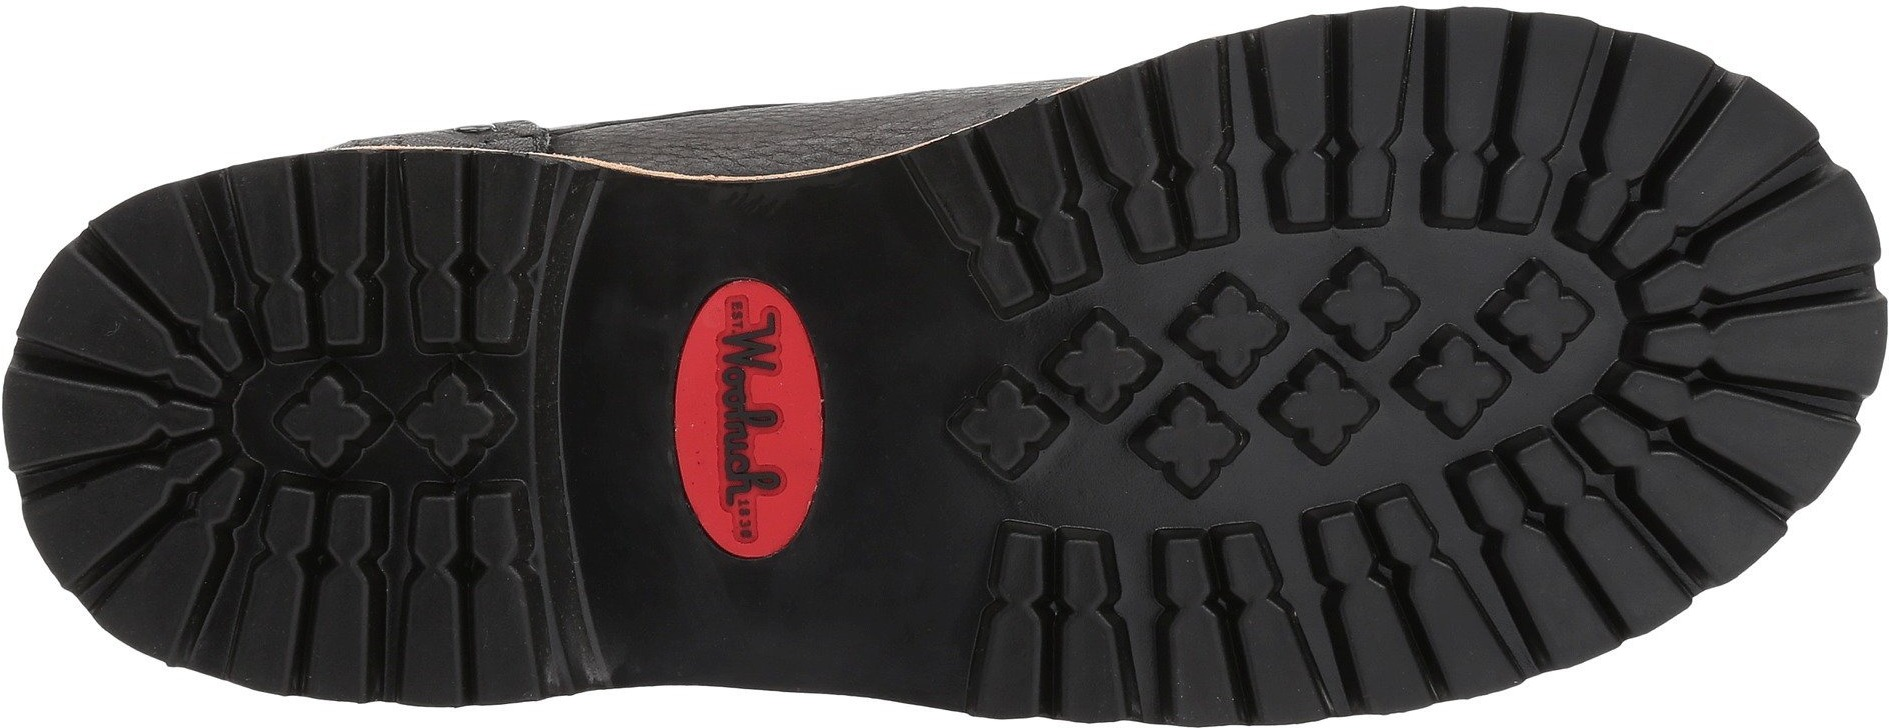bowtie: (5, 248, 251, 533), (1610, 94, 1864, 333), (60, 303, 271, 566), (1216, 472, 1429, 717), (302, 479, 539, 699), (1428, 17, 1650, 240), (979, 535, 1244, 722), (308, 154, 541, 350)
circle: (599, 256, 896, 571)
exclude: (539, 13, 979, 723)
star: (1304, 256, 1508, 464), (390, 360, 517, 476), (271, 362, 387, 476)
text: (599, 256, 896, 571), (647, 290, 848, 534)
